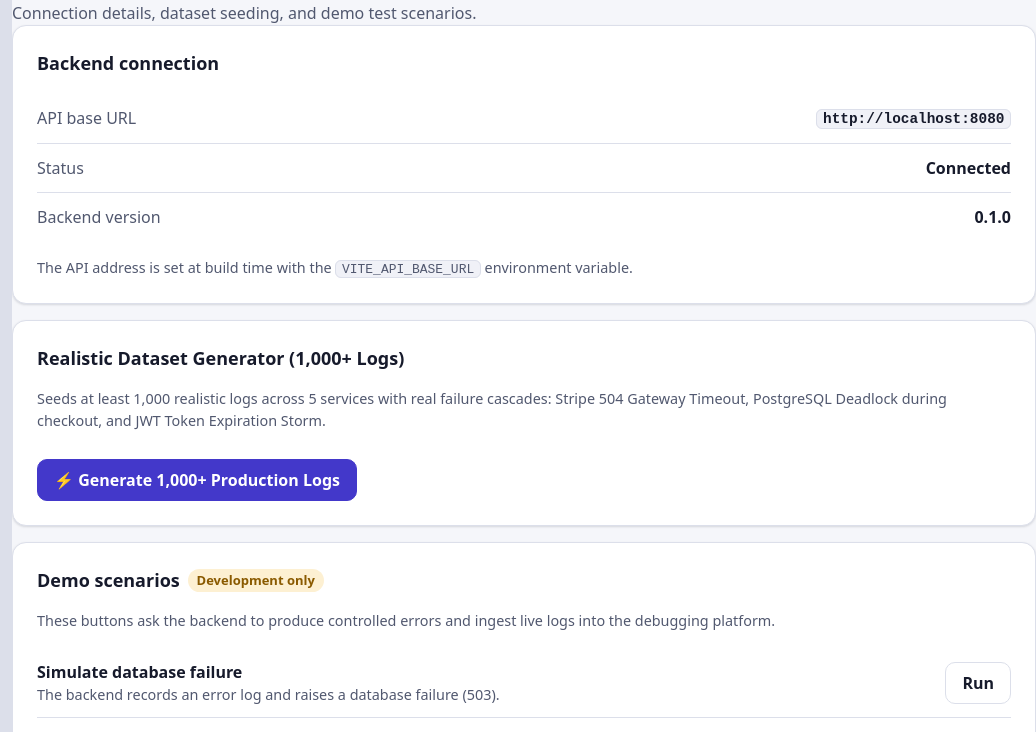
Settings page › explains that demo mode is off when the backend answers 404
The width and height of the screenshot is (1036, 732).
Click the button with aria-label "Run: Simulate database failure". click: (978, 683)
box: [945,662,1011,704]
(page scrolled)
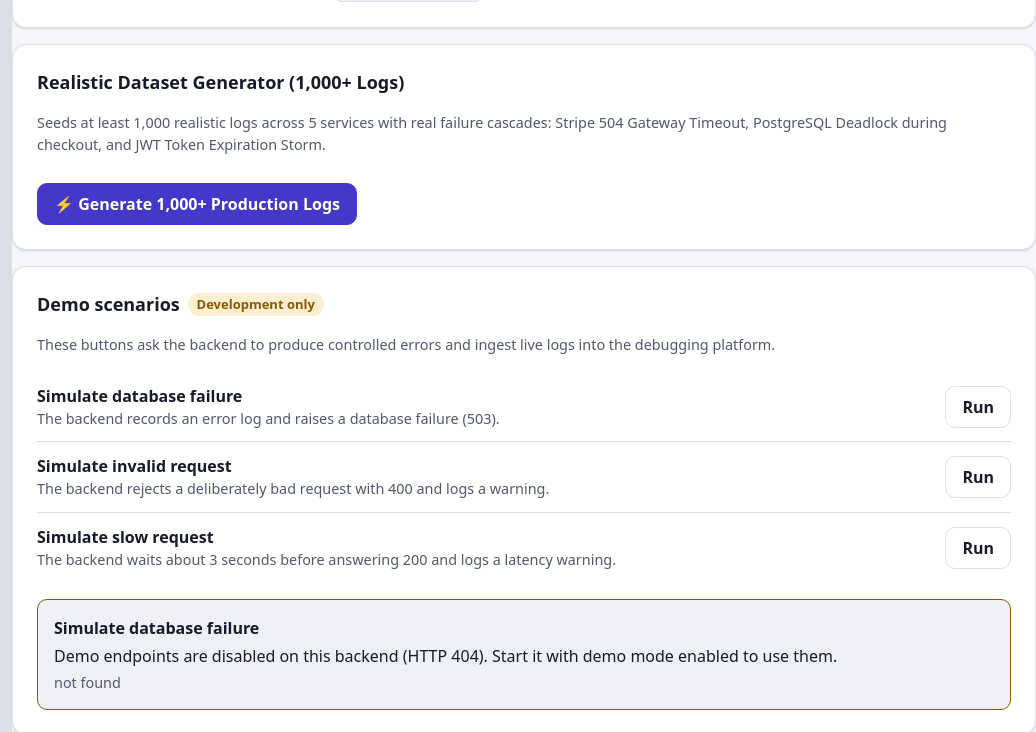
Check: the text "Demo endpoints are disabled on this backend" is shown, box [54,645,837,667]
